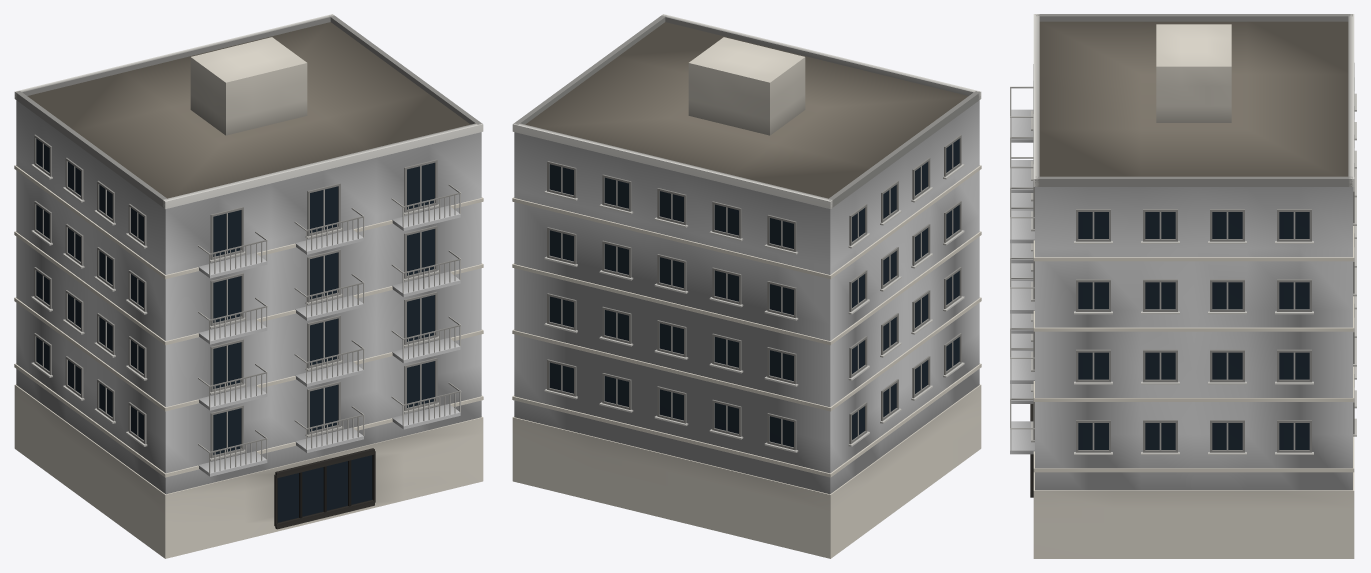
The model's file is departamentos--s5WAHFt.glb.
3 renders of one model, left to right at view 1: azimuth 30°, elevation 25°; view 2: azimuth 150°, elevation 25°; view 3: azimuth 270°, elevation 25°, orthographic. The views are drawn at different scales.
Visible parts, largest first — view 1: pieza, pieza.002, pieza.001, pieza.007, pieza.008, pieza.003, pieza.004, pieza.005, pieza.006, pieza.064, pieza.113, pieza.162 (+27 smaller); view 2: pieza, pieza.002, pieza.001, pieza.007, pieza.004, pieza.003, pieza.064, pieza.113, pieza.162, pieza.211, pieza.005, pieza.006 (+20 smaller); view 3: pieza, pieza.002, pieza.001, pieza.007, pieza.006, pieza.005, pieza.064, pieza.162, pieza.211, pieza.113, pieza.003, pieza.004 (+24 smaller).
Part boxes in pixels (x1,y1,x2,y2): pieza: [16, 100, 481, 494]; pieza.002: [27, 22, 470, 198]; pieza.001: [14, 384, 483, 558]; pieza.007: [190, 37, 307, 135]; pieza.008: [277, 455, 372, 522]; pieza.003: [163, 122, 483, 208]; pieza.004: [14, 14, 334, 99]; pieza.005: [15, 91, 166, 207]; pieza.006: [329, 15, 482, 124]; pieza.064: [14, 363, 483, 477]; pieza.113: [14, 297, 483, 411]; pieza.162: [14, 231, 483, 345]; pieza: [514, 100, 979, 494]; pieza.002: [525, 22, 968, 198]; pieza.001: [512, 384, 981, 558]; pieza.007: [688, 37, 805, 135]; pieza.004: [512, 123, 833, 208]; pieza.003: [661, 14, 981, 100]; pieza.064: [512, 363, 981, 477]; pieza.113: [512, 297, 981, 411]; pieza.162: [512, 231, 981, 345]; pieza.211: [512, 165, 981, 279]; pieza.005: [828, 91, 980, 207]; pieza.006: [513, 15, 666, 124]; pieza: [1035, 187, 1352, 490]; pieza.002: [1039, 21, 1348, 176]; pieza.001: [1033, 472, 1354, 558]; pieza.007: [1156, 24, 1231, 122]; pieza.006: [1035, 176, 1352, 186]; pieza.005: [1036, 14, 1352, 21]; pieza.064: [1033, 436, 1354, 472]; pieza.162: [1033, 296, 1354, 331]; pieza.211: [1033, 226, 1354, 261]; pieza.113: [1033, 366, 1354, 401]; pieza.003: [1033, 14, 1039, 186]; pieza.004: [1348, 14, 1354, 186].
Bounding box in the file's own units: 15.82 × 19 × 13.86.
